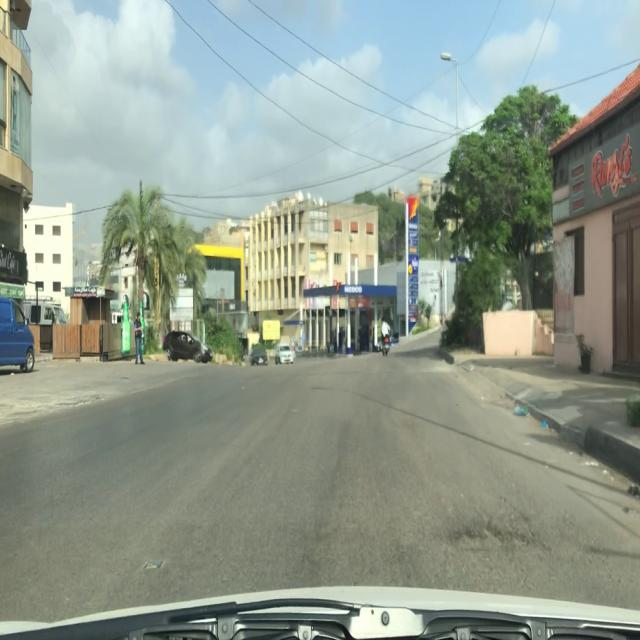Pothole: (448, 526, 536, 554)
